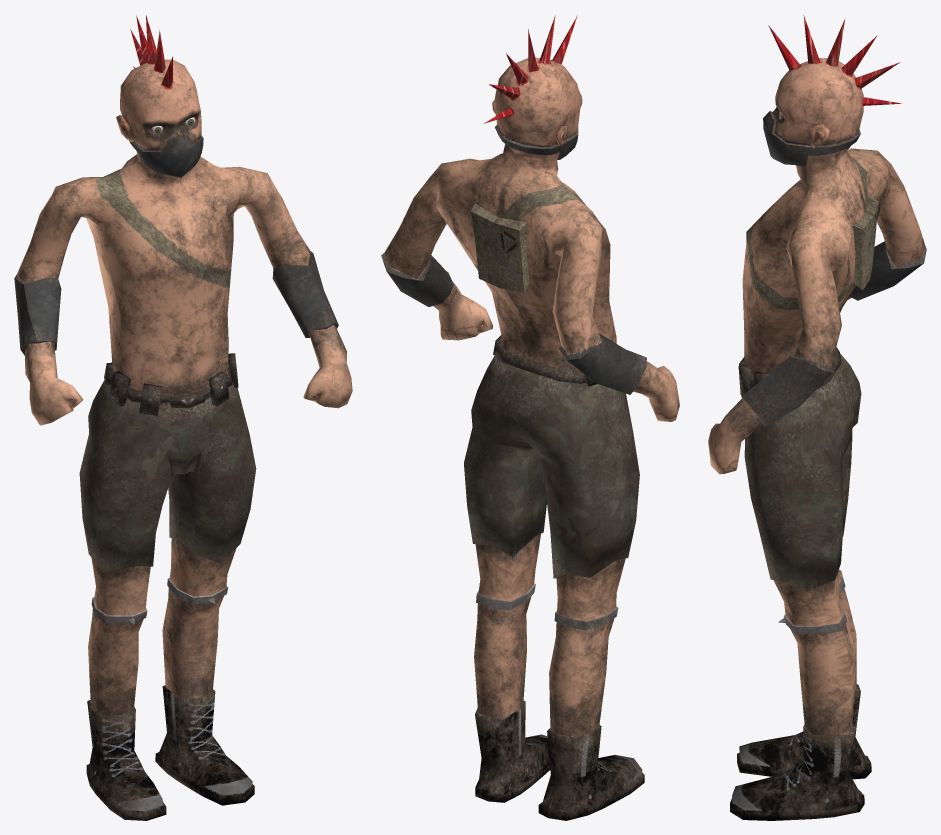
The model's file is Anim_ataque_d2_npc2.0012.obj.
3 views of the same model, side by side, from view 1: azimuth 30°, elevation 25°; view 2: azimuth 150°, elevation 25°; view 3: azimuth 270°, elevation 25° (orthographic). The views are drawn at different scales.
Visible parts, largest first — view 1: polySurface1; view 2: polySurface1; view 3: polySurface1.
Part boxes in pixels (x1=…): polySurface1: x1=14, y1=15, x2=352, y2=820; polySurface1: x1=381, y1=15, x2=679, y2=820; polySurface1: x1=708, y1=15, x2=926, y2=820.
Size of the model in its own units: 4 by 10.15 by 2.6.
Materials: 2 (2 with a texture image).
